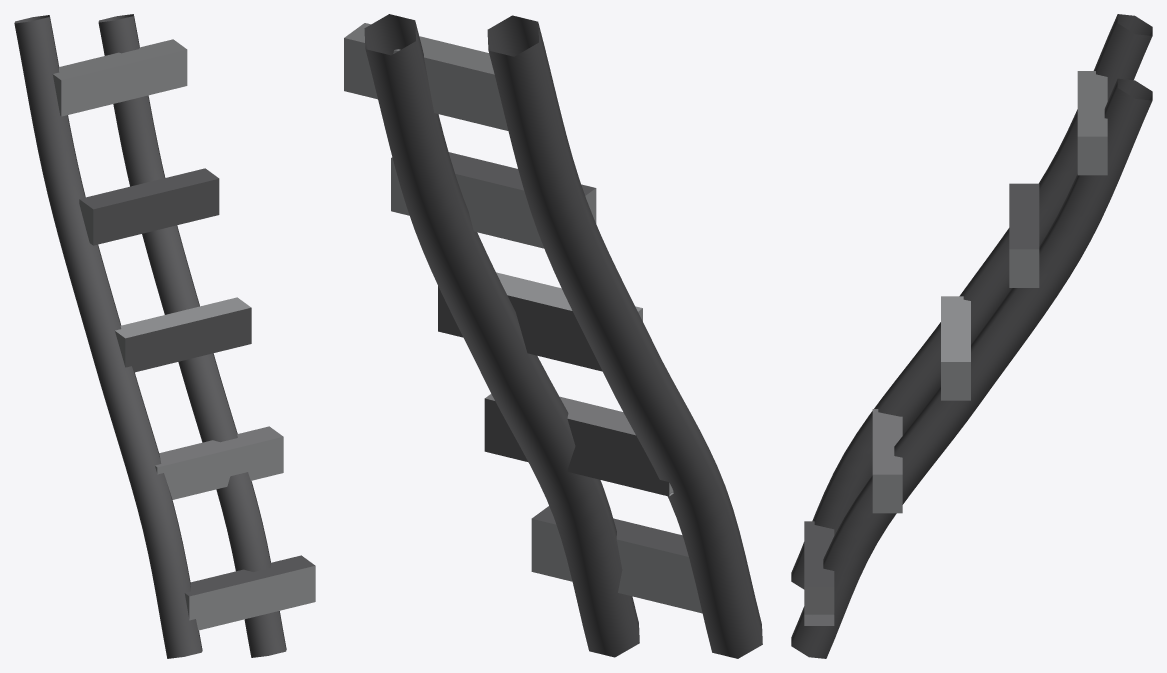
3 renders of one model, left to right at view 1: azimuth 30°, elevation 25°; view 2: azimuth 150°, elevation 25°; view 3: azimuth 270°, elevation 25°, orthographic. The views are drawn at different scales.
Size of the model in its own units: 0.1877 by 0.6813 by 0.3766.
